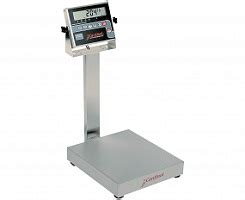Industrial Scale: (60, 1, 186, 200)
